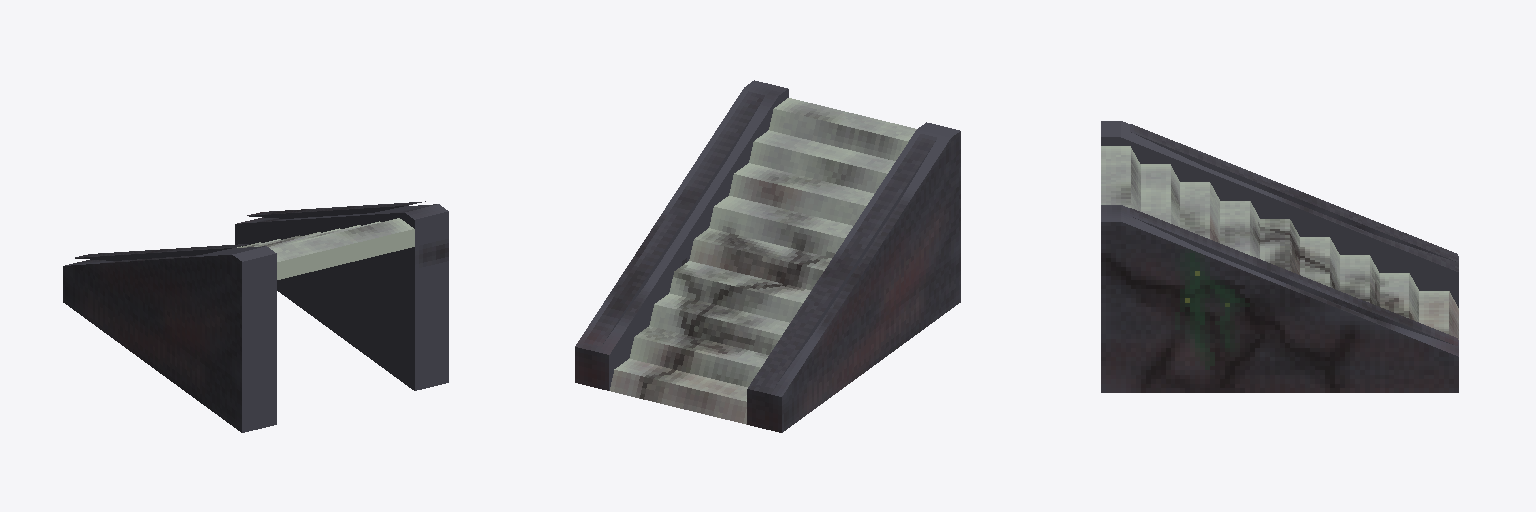
3 renders of one model, left to right at view 1: azimuth 30°, elevation 25°; view 2: azimuth 150°, elevation 25°; view 3: azimuth 270°, elevation 25°, orthographic.
Visible parts, largest first — view 1: cuboid; view 2: cuboid; view 3: cuboid.
Boxes of the visible parts, box(x1,y1,x2,y2) form: cuboid: box(63, 201, 448, 432); cuboid: box(575, 80, 960, 432); cuboid: box(1101, 121, 1458, 392).
Bounding box in the file's own units: 1.5 × 1.2 × 2.25.
Materials: 1 (1 with a texture image).